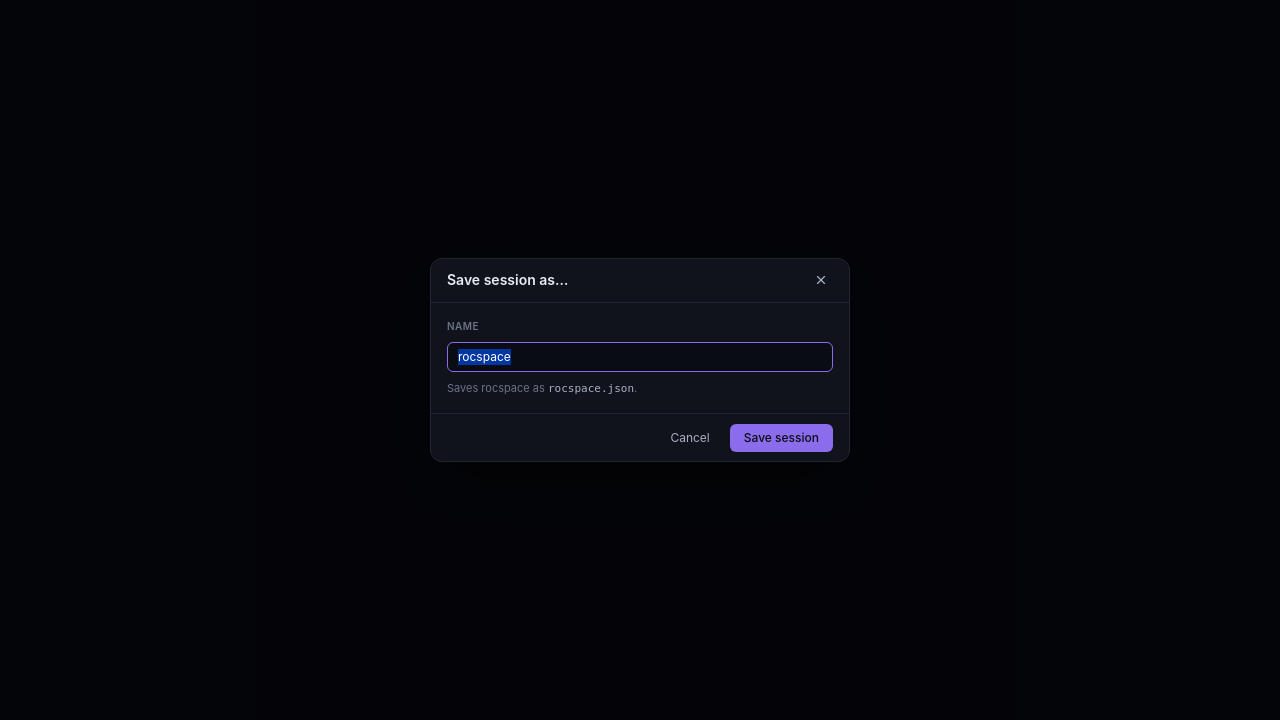
Test case: saving › refuses a name no filename can be made from
Replace the text in the field labelled "Name" with "???" at (640, 357), box x1=447 y1=342 x2=833 y2=372
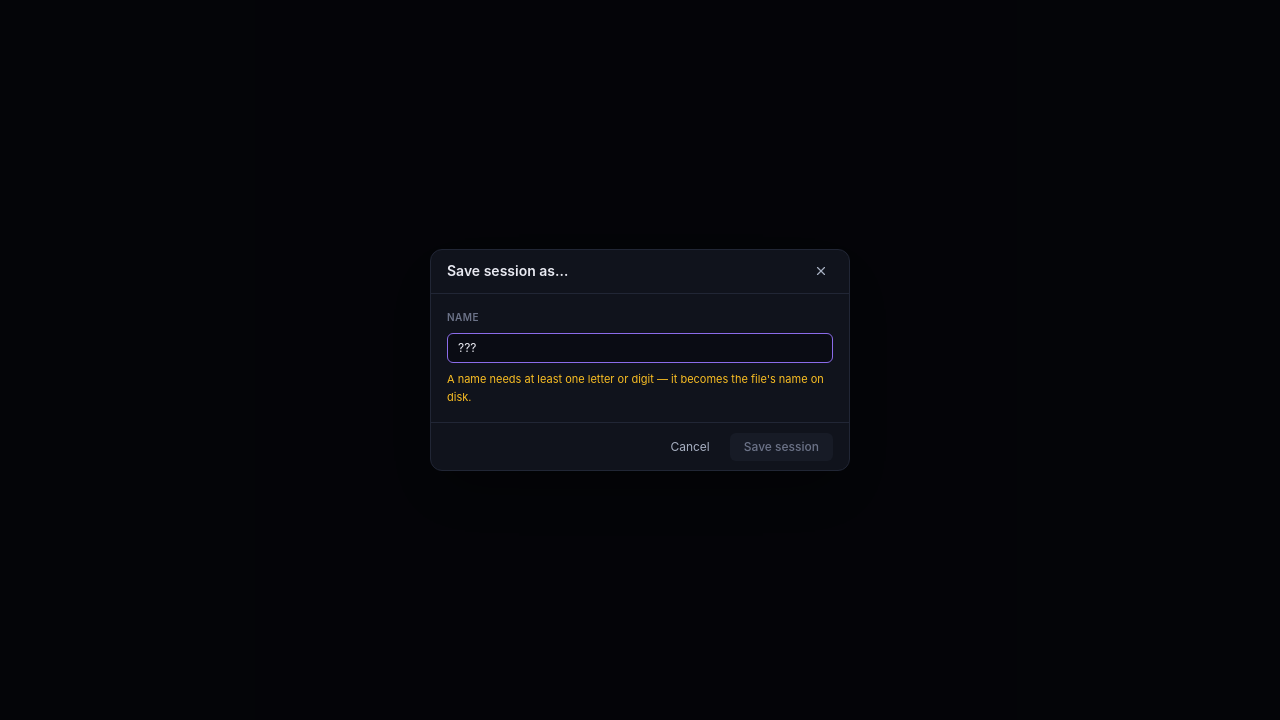
Check: the button "Save session" is disabled, box x1=730 y1=433 x2=833 y2=461
Check: the text "at least one letter or digit" is shown, box x1=447 y1=372 x2=824 y2=404
